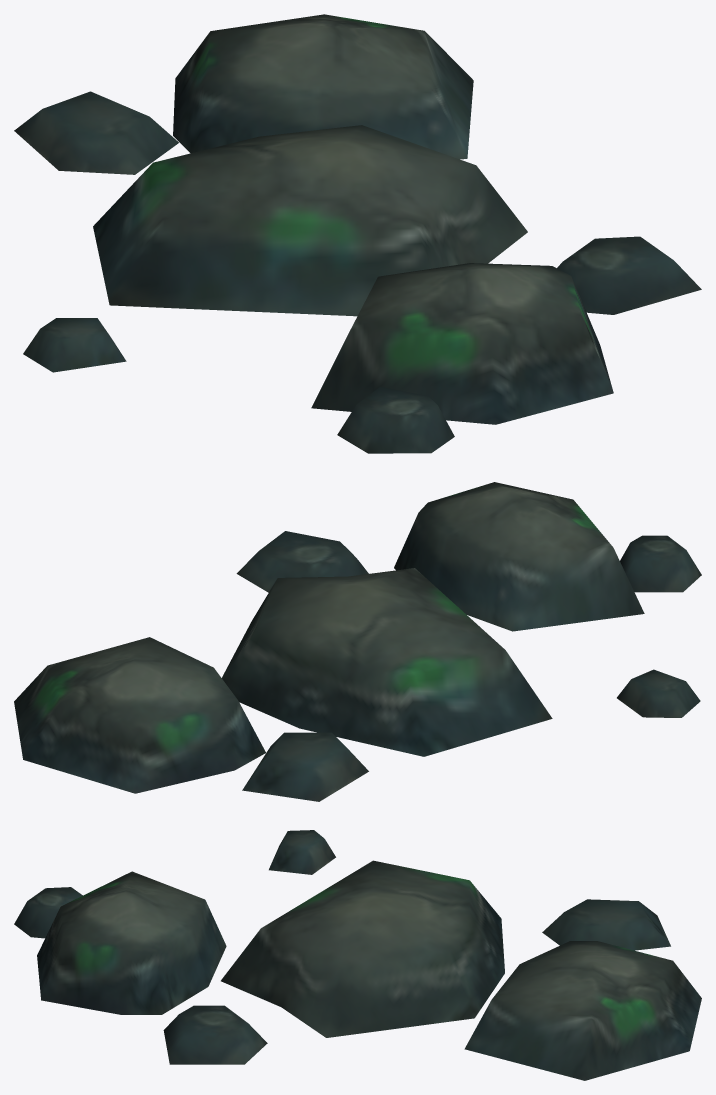
The model's file is h5_suishitou_a.FBX.
3 renders of one model, top to bottom at view 1: azimuth 30°, elevation 25°; view 2: azimuth 150°, elevation 25°; view 3: azimuth 270°, elevation 25°, orthographic. The views are drawn at different scales.
Visible parts, largest first — view 1: h5_suishitou_a; view 2: h5_suishitou_a; view 3: h5_suishitou_a.
Part boxes in pixels (x1,y1,x2,y2): h5_suishitou_a: (14,14,701,453); h5_suishitou_a: (14,482,701,801); h5_suishitou_a: (14,830,701,1080).
Bounding box in the file's own units: 3.87 × 0.605 × 4.83.
1 material, 1 textured.
